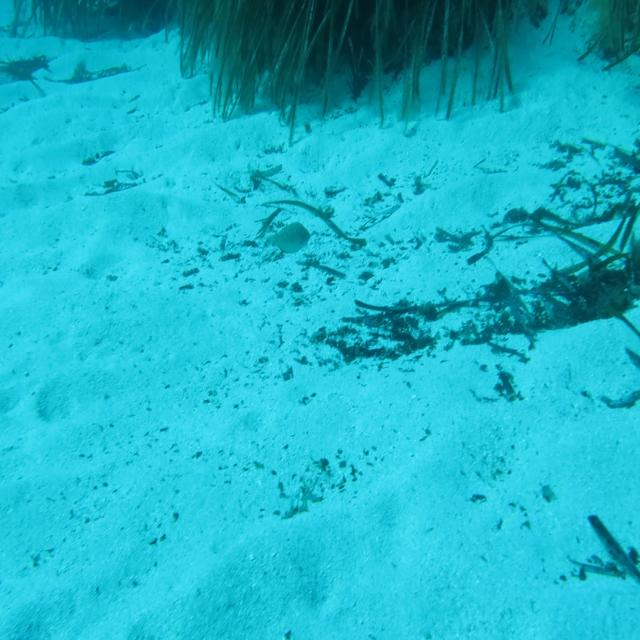SA: (260, 214, 313, 258)
vegetation: (0, 0, 640, 103), (387, 263, 640, 348)
